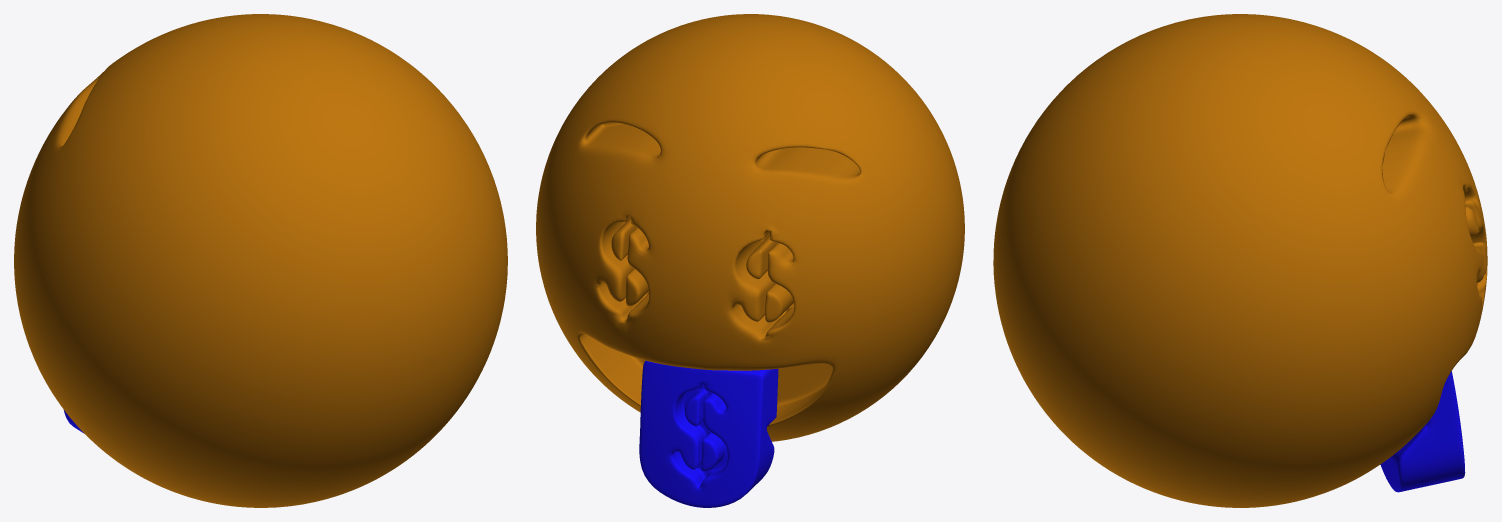
The model's file is money.FBX.
3 renders of one model, left to right at view 1: azimuth 30°, elevation 25°; view 2: azimuth 150°, elevation 25°; view 3: azimuth 270°, elevation 25°, orthographic. The views are drawn at different scales.
Parts seen in each view (by area): view 1: Group30442; view 2: Group30442, Group40558; view 3: Group30442, Group40558.
Boxes of the visible parts, bbox=[...] form: Group30442: bbox=[14, 14, 507, 507]; Group30442: bbox=[536, 14, 964, 441]; Group40558: bbox=[639, 360, 778, 507]; Group30442: bbox=[993, 14, 1487, 507]; Group40558: bbox=[1380, 371, 1465, 492].
Bounding box in the file's own units: 20.21 × 20.89 × 20.22.
